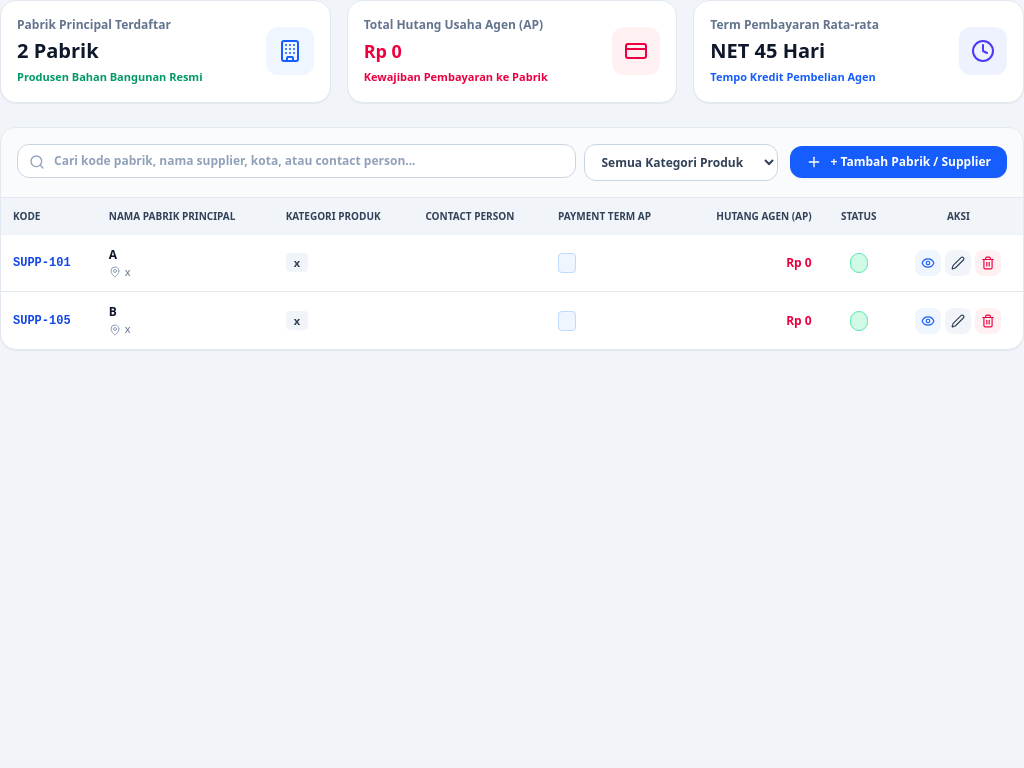
Test: SupplierMaster add flow › never reuses a code, even if suppliers were deleted before
Click the button "+ Tambah Pabrik / Supplier" at (899, 162), box [790,146,1007,178]
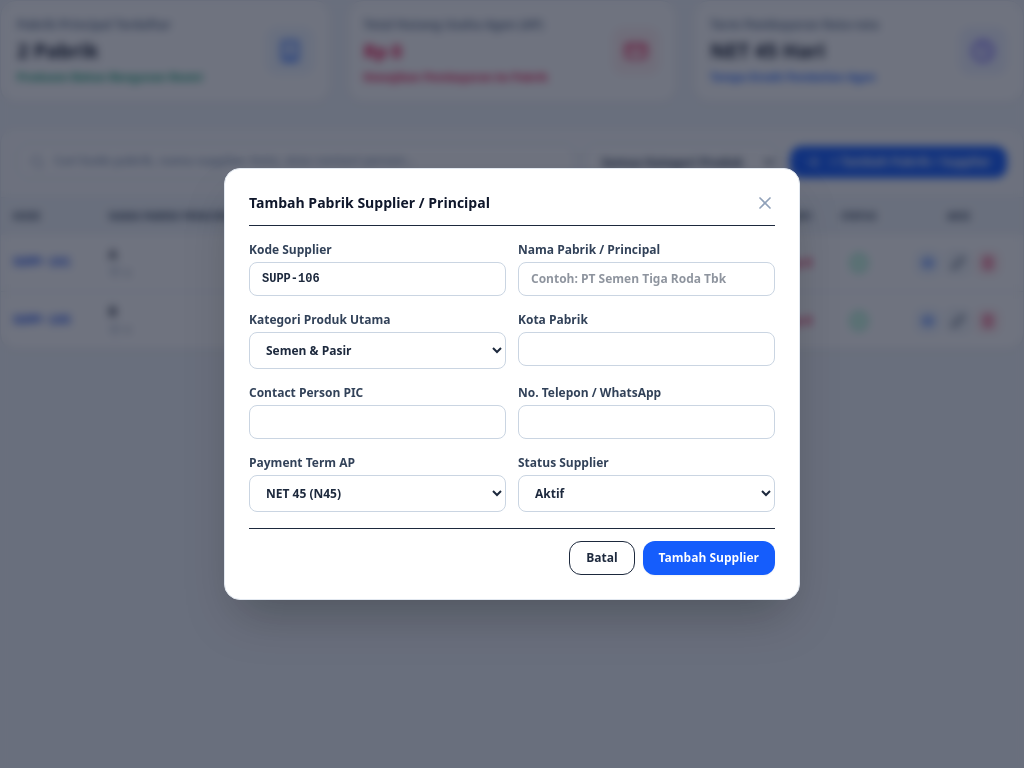
Expected: the field below "Kode Supplier" holds "SUPP-106", [249,262,506,296]
